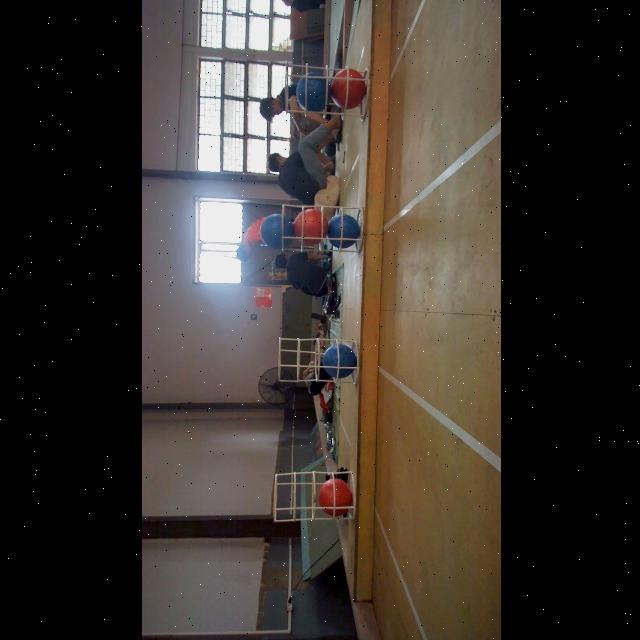B: (295, 72, 331, 112), (321, 344, 357, 378), (258, 214, 292, 250), (324, 214, 358, 248)
R: (330, 66, 364, 110), (318, 476, 352, 516), (292, 208, 328, 245)
